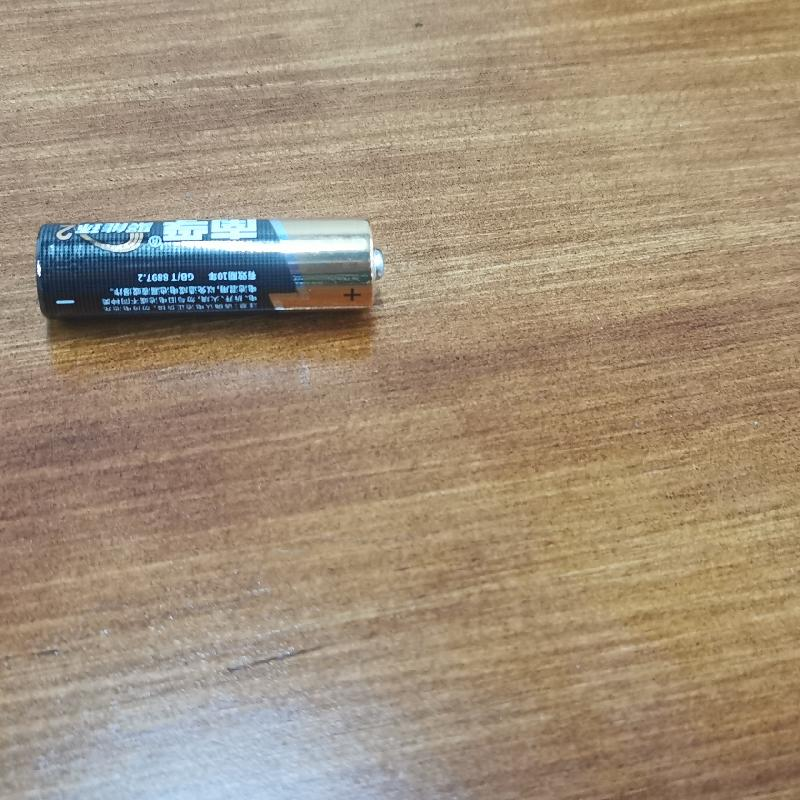battery: (30, 212, 391, 334)
